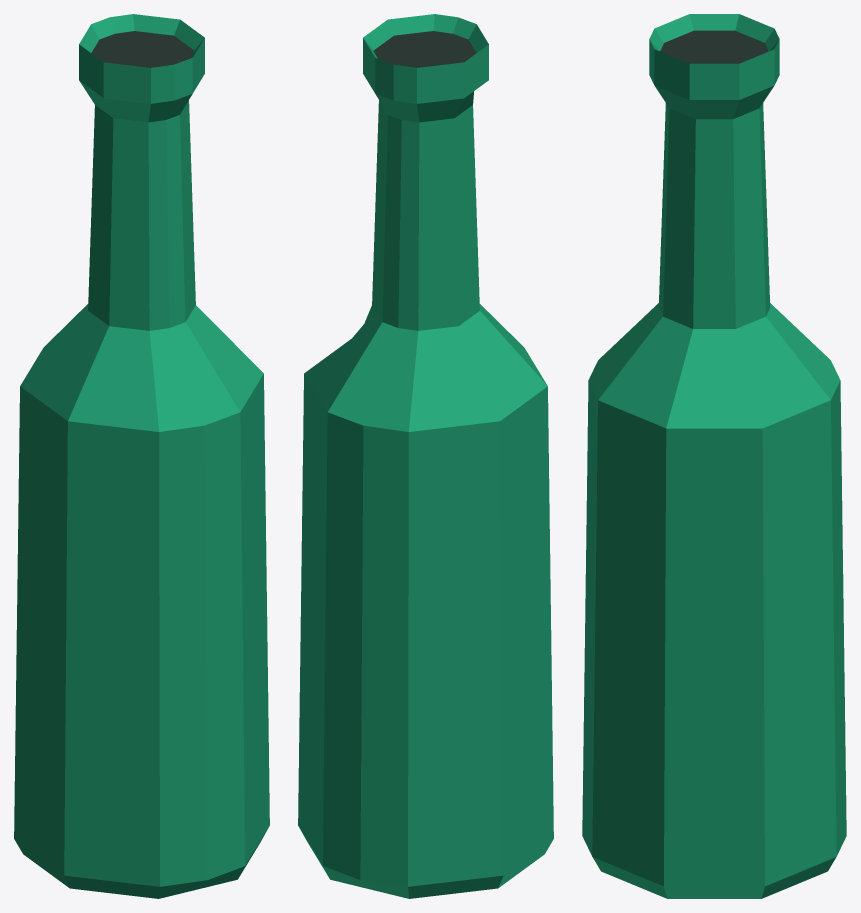
The model's file is glass_bottle.gltf.
The picture shows the model from 3 angles, left to right: view 1: azimuth 30°, elevation 25°; view 2: azimuth 150°, elevation 25°; view 3: azimuth 270°, elevation 25°; orthographic projection.
Parts seen in each view (by area): view 1: Cylinder; view 2: Cylinder; view 3: Cylinder.
Boxes of the visible parts, x1,y1,x2,y2 form: Cylinder: (14, 14, 269, 898); Cylinder: (298, 14, 553, 898); Cylinder: (582, 14, 846, 898).
Size of the model in its own units: 0.0904 by 0.3391 by 0.0999.
